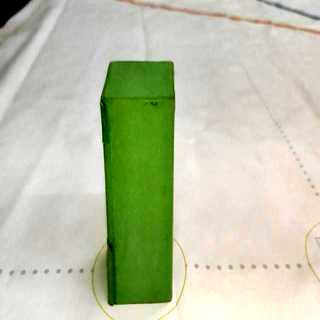greenbox: (98, 58, 178, 306)
